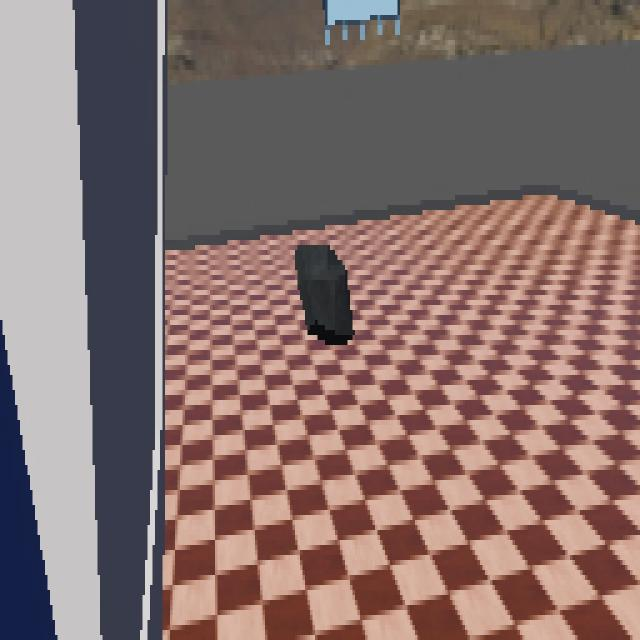rock: (295, 242, 354, 348)
